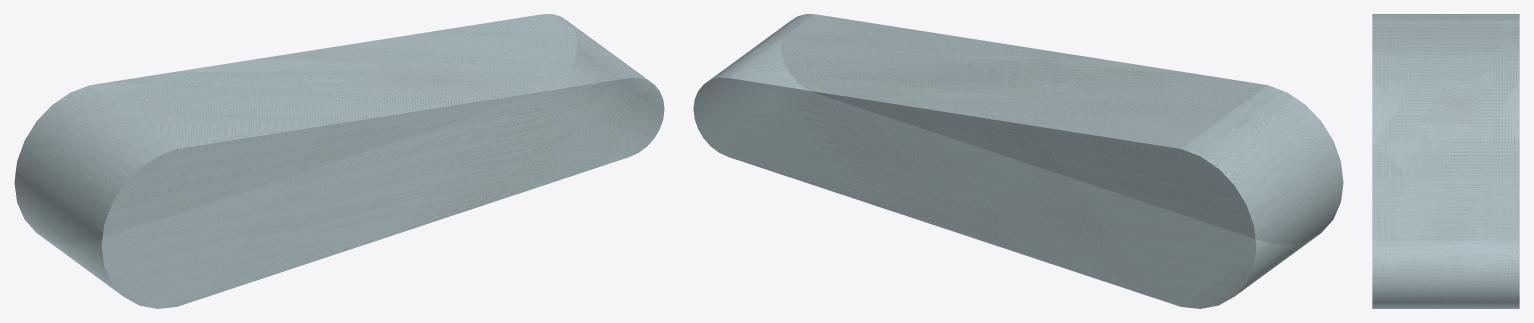
File: flipperLeft.dae
3 renders of one model, left to right at view 1: azimuth 30°, elevation 25°; view 2: azimuth 150°, elevation 25°; view 3: azimuth 270°, elevation 25°, orthographic. The views are drawn at different scales.
Parts seen in each view (by area): view 1: SketchUp; view 2: SketchUp; view 3: SketchUp.
Boxes of the visible parts, x1,y1,x2,y2 form: SketchUp: (14, 14, 664, 308); SketchUp: (693, 14, 1343, 308); SketchUp: (1372, 14, 1519, 308).
Size of the model in its own units: 294 by 78.74 by 78.74.
Materials: 2 (1 with a texture image).
